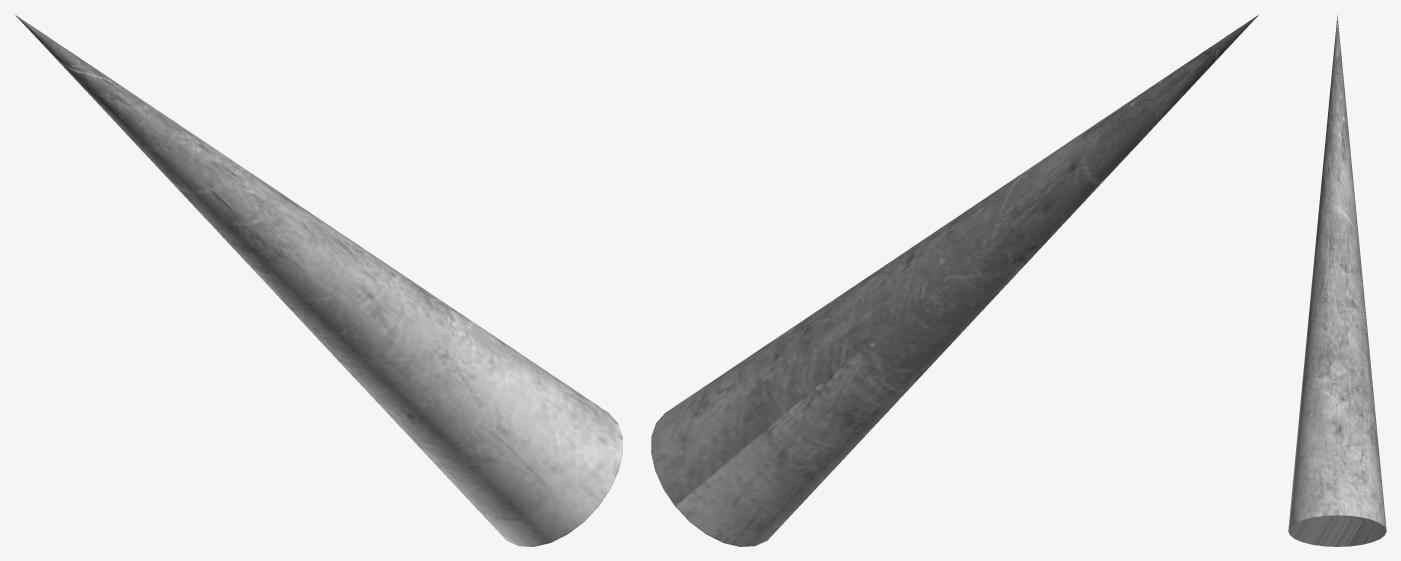
The model's file is Tooth.FBX.
3 views of the same model, side by side, from view 1: azimuth 30°, elevation 25°; view 2: azimuth 150°, elevation 25°; view 3: azimuth 270°, elevation 25° (orthographic). The views are drawn at different scales.
Parts seen in each view (by area): view 1: Cone001; view 2: Cone001; view 3: Cone001.
Part boxes in pixels (<box>): Cone001: <box>15,15,622,546</box>; Cone001: <box>651,15,1258,546</box>; Cone001: <box>1288,14,1386,546</box>.
Bounding box in the file's own units: 5.05 × 5.24 × 1.2.
Materials: 1 (1 with a texture image).
